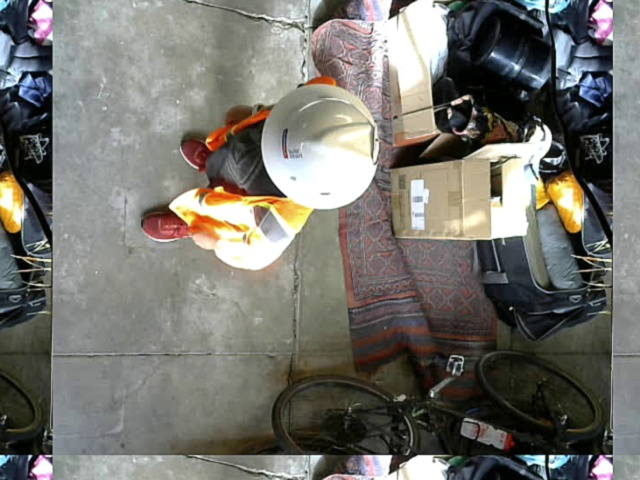one: (371, 124, 381, 163)
